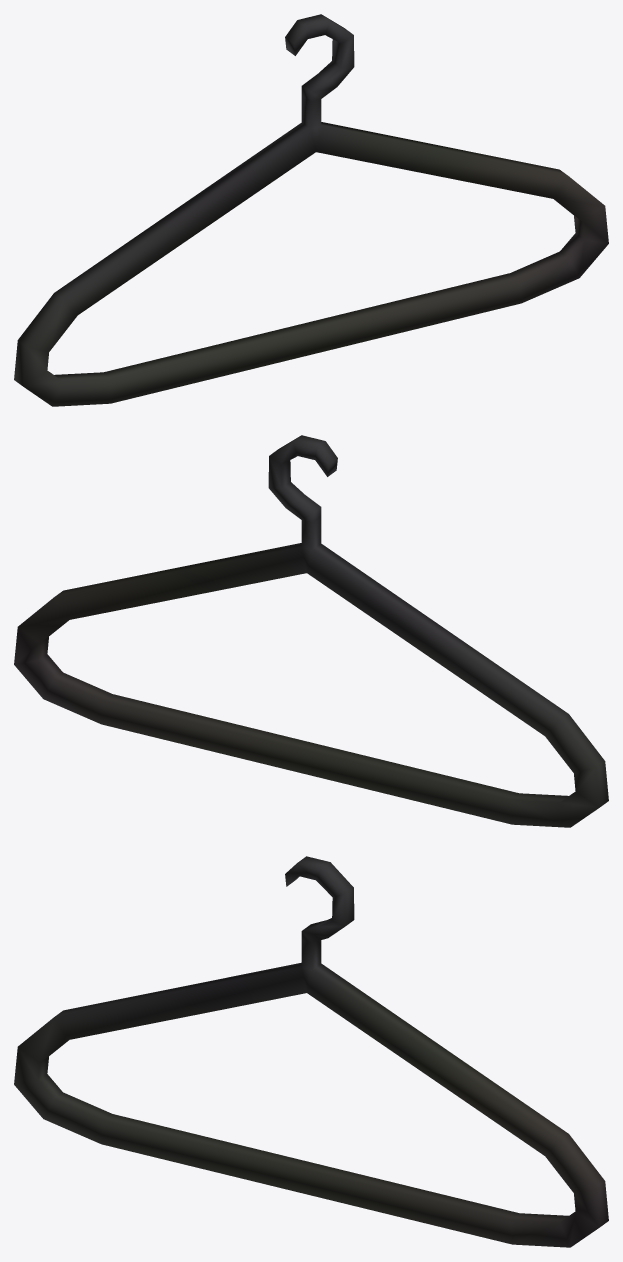
File: ClothingHangerBlack.glb
The picture shows the model from 3 angles, top to bottom: view 1: azimuth 30°, elevation 25°; view 2: azimuth 150°, elevation 25°; view 3: azimuth 330°, elevation 25°; orthographic projection.
Visible parts, largest first — view 1: ClothingHangerBlack; view 2: ClothingHangerBlack; view 3: ClothingHangerBlack.
Part boxes in pixels (x1,y1,x2,y2): ClothingHangerBlack: (14, 14, 608, 406); ClothingHangerBlack: (14, 435, 608, 827); ClothingHangerBlack: (14, 856, 608, 1247).
Bounding box in the file's own units: 0.6035 × 0.324 × 0.0164.
1 material, 1 textured.
